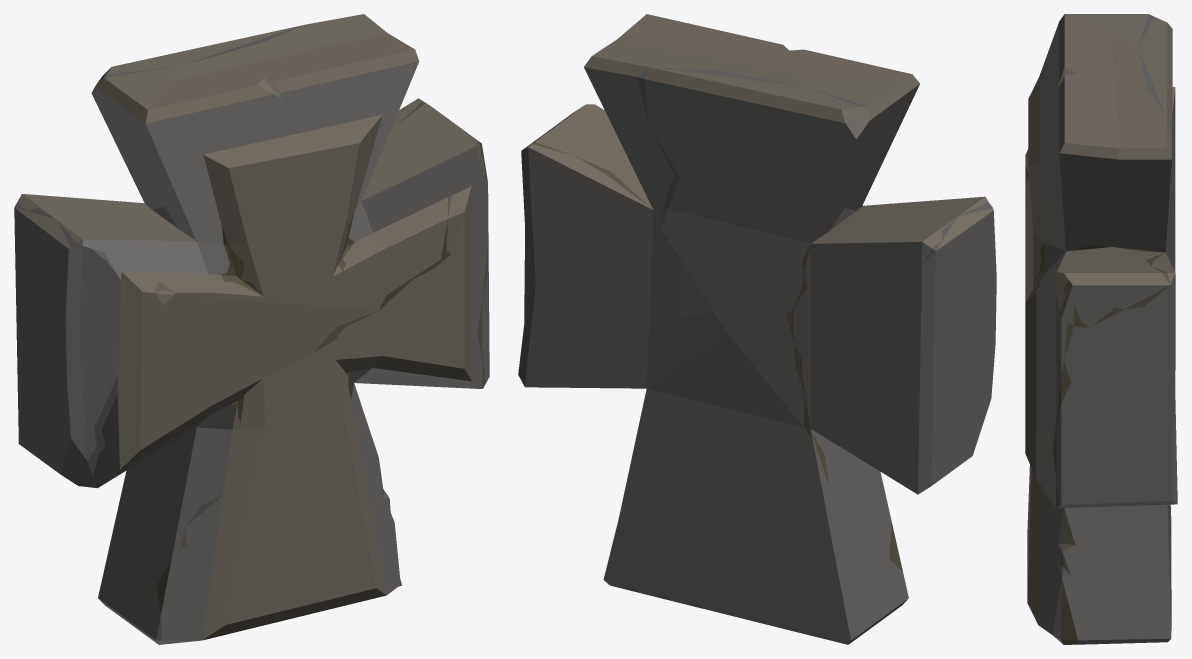
File: stone_double_cross.fbx
3 views of the same model, side by side, from view 1: azimuth 30°, elevation 25°; view 2: azimuth 150°, elevation 25°; view 3: azimuth 270°, elevation 25° (orthographic). The views are drawn at different scales.
Parts seen in each view (by area): view 1: stone_double_cross; view 2: stone_double_cross; view 3: stone_double_cross.
Boxes of the visible parts, <box> form: stone_double_cross: <box>14,14,489,644</box>; stone_double_cross: <box>518,14,996,644</box>; stone_double_cross: <box>1025,14,1177,644</box>.
Size of the model in its own units: 1.9 by 2.3 by 0.6206.
